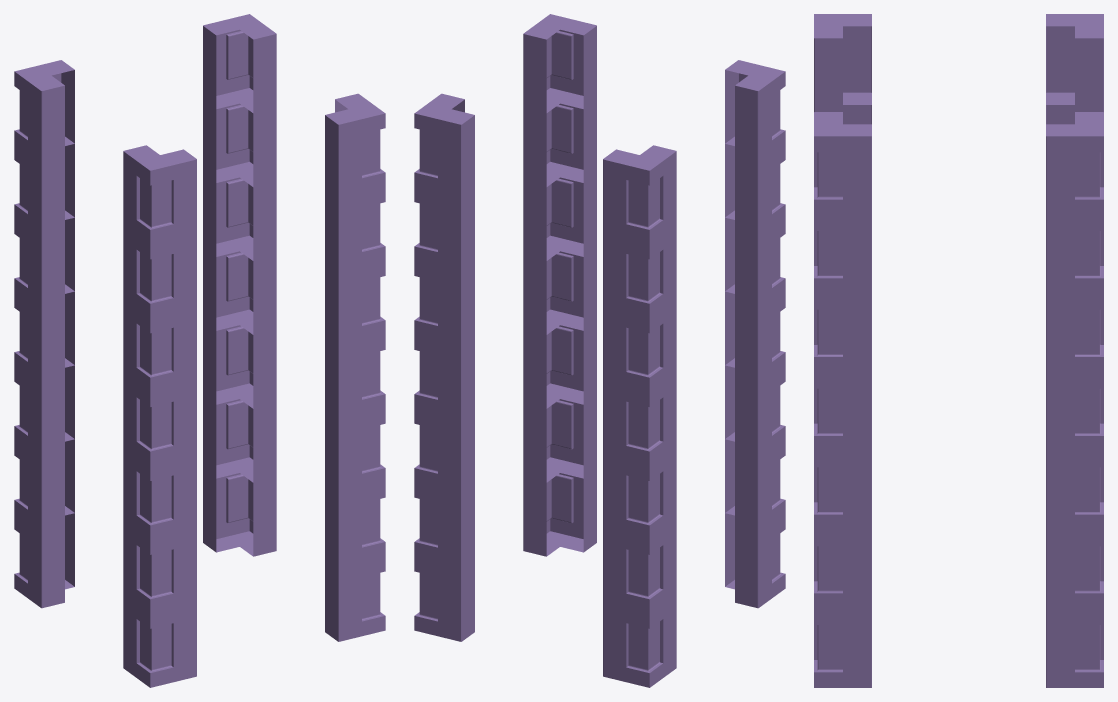
Rendered from edge test.fbx.
The picture shows the model from 3 angles, left to right: view 1: azimuth 30°, elevation 25°; view 2: azimuth 150°, elevation 25°; view 3: azimuth 270°, elevation 25°; orthographic projection. The views are drawn at different scales.
Parts seen in each view (by area): view 1: need 28 steps.003; view 2: need 28 steps.003; view 3: need 28 steps.003.
Boxes of the visible parts, x1,y1,x2,y2 form: need 28 steps.003: [14, 14, 385, 687]; need 28 steps.003: [414, 14, 785, 687]; need 28 steps.003: [814, 14, 1103, 687].
Size of the model in its own units: 1000 by 2100 by 1000.
